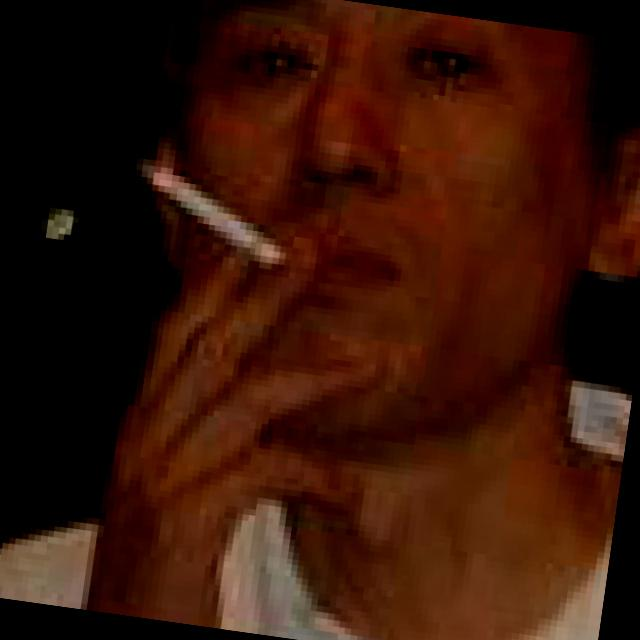cigarette: (123, 152, 304, 286)
